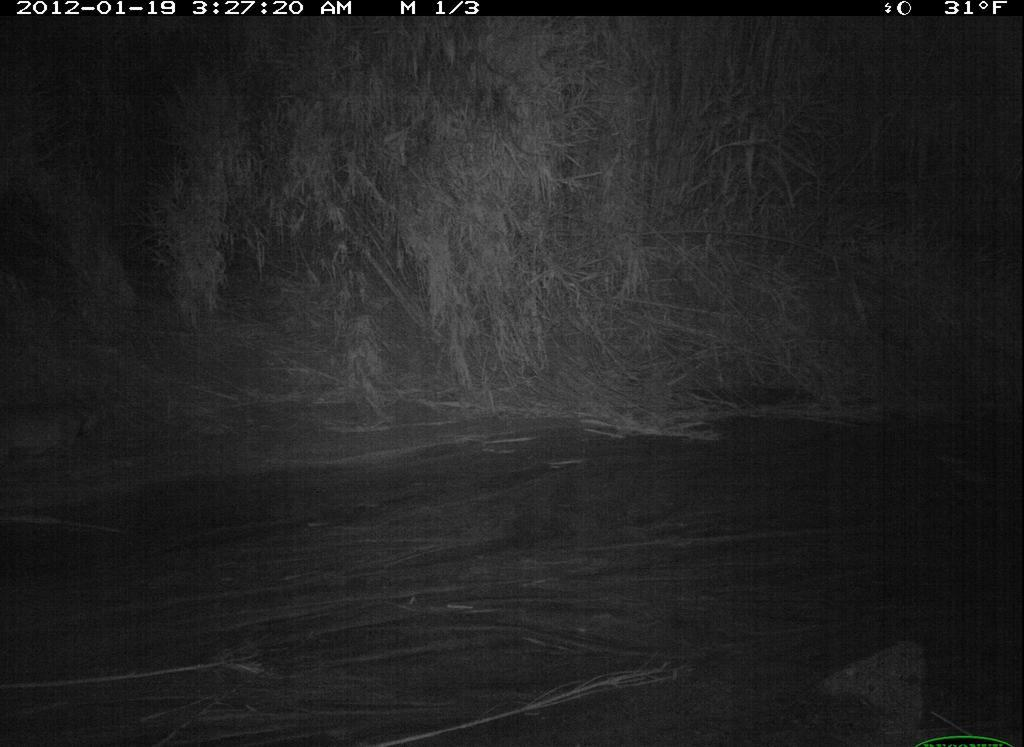bobcat: (2, 395, 114, 500)
